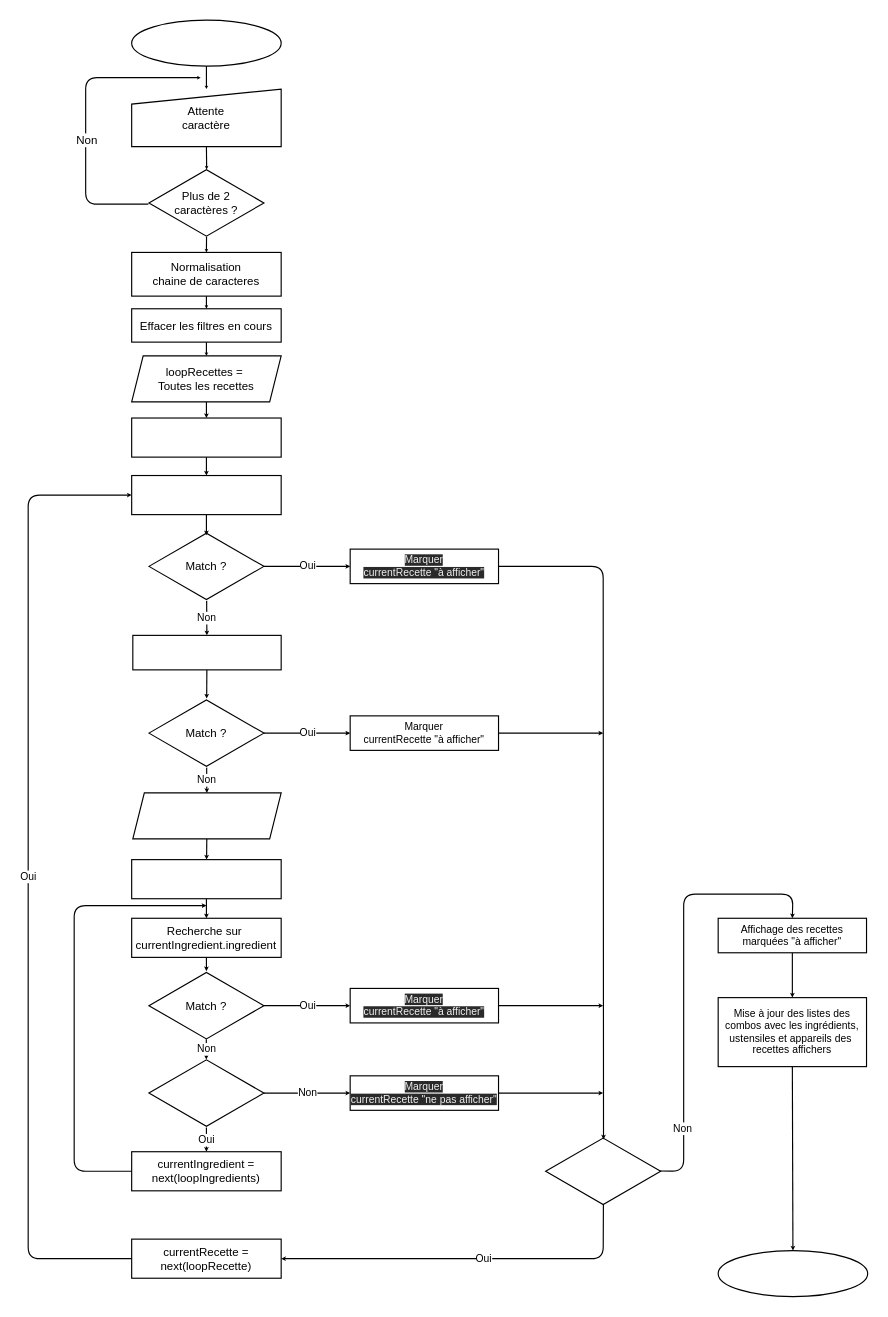
This 888x1317 diagram has some shape labels left out. The centre of each missing label's shape, as x and y in pixels:
"currentIngredient = first(loopIngredients)" belongs at point (206, 878).
"currentRecette = first(loopRecette)" belongs at point (206, 437).
"Début" belongs at point (206, 42).
"Fin" belongs at point (792, 1273).
"Il reste des ingrédients ?" belongs at point (206, 1092).
"Il reste des recettes ?" belongs at point (603, 1171).
"loopIngredients = currentRecette.ingredients" belongs at point (206, 815).
"Recherche sur currentRecette.description" belongs at point (206, 652).
"Recherche sur currentRecette.titre" belongs at point (206, 494).
